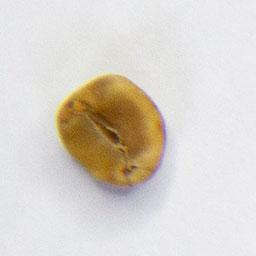defect: (53, 70, 169, 191)
